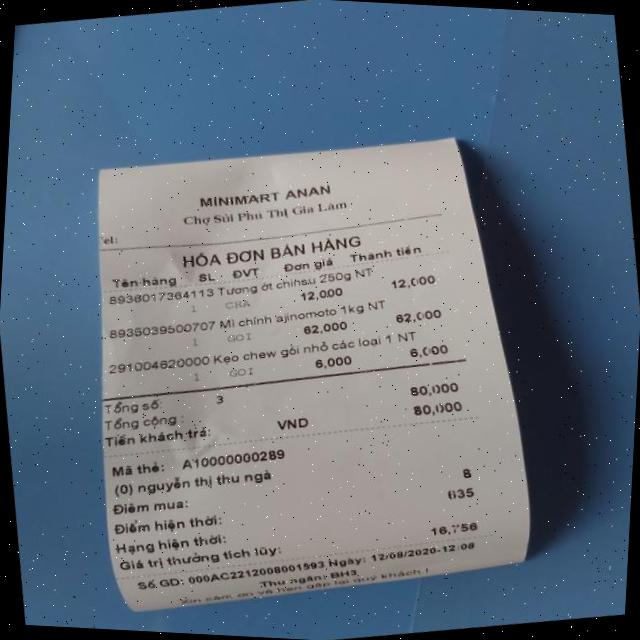Date: (368, 540, 442, 566)
Store_Name: (195, 173, 336, 218)
amount_number: (406, 374, 464, 402)
label_total: (102, 407, 183, 438)
